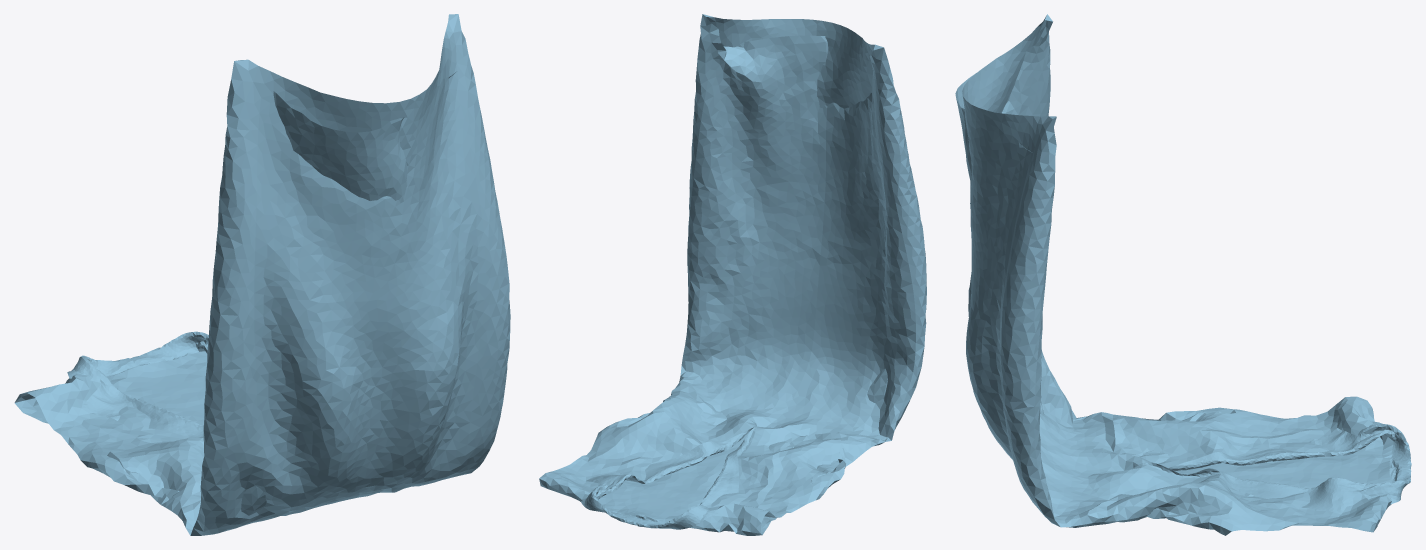
Rendered from frame_11.glb.
The picture shows the model from 3 angles, left to right: view 1: azimuth 30°, elevation 25°; view 2: azimuth 150°, elevation 25°; view 3: azimuth 270°, elevation 25°; orthographic projection. The views are drawn at different scales.
Visible parts, largest first — view 1: frame_11.obj; view 2: frame_11.obj; view 3: frame_11.obj.
Boxes of the visible parts, x1,y1,x2,y2 form: frame_11.obj: [14, 14, 510, 535]; frame_11.obj: [539, 14, 926, 535]; frame_11.obj: [955, 14, 1411, 535].
Size of the model in its own units: 0.6225 by 0.9593 by 0.948.
